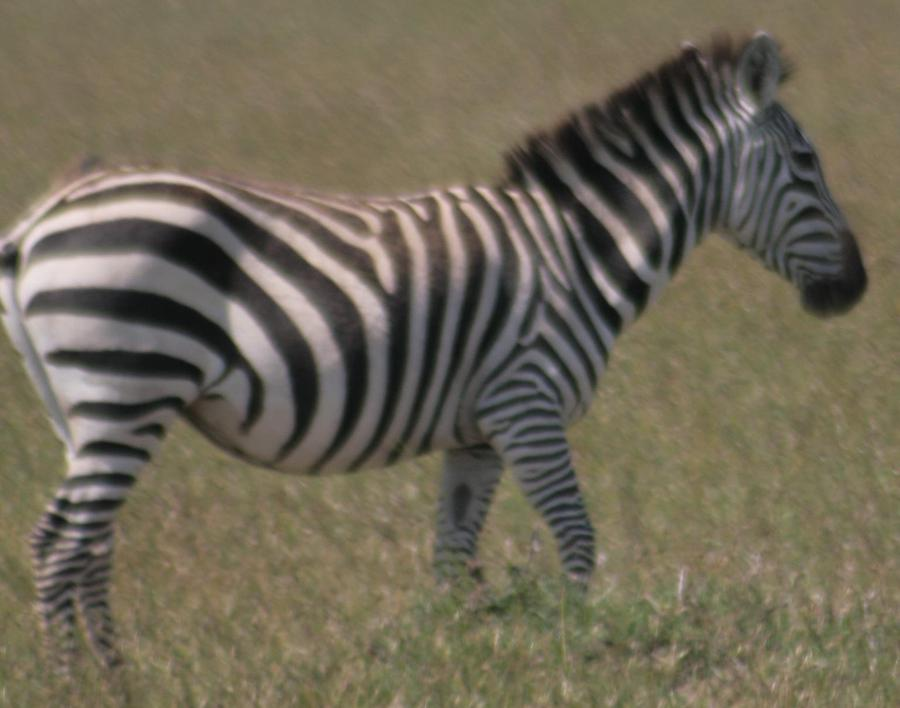zebra_plains: (8, 147, 601, 486)
